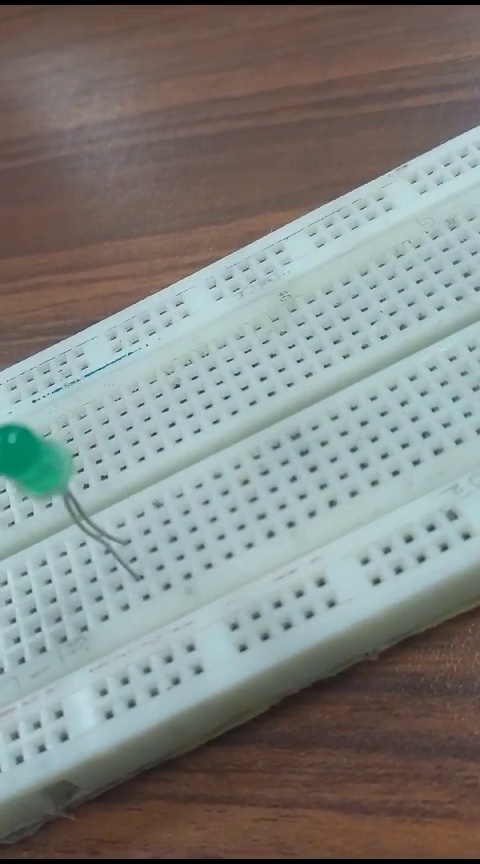LED: (2, 413, 154, 589)
